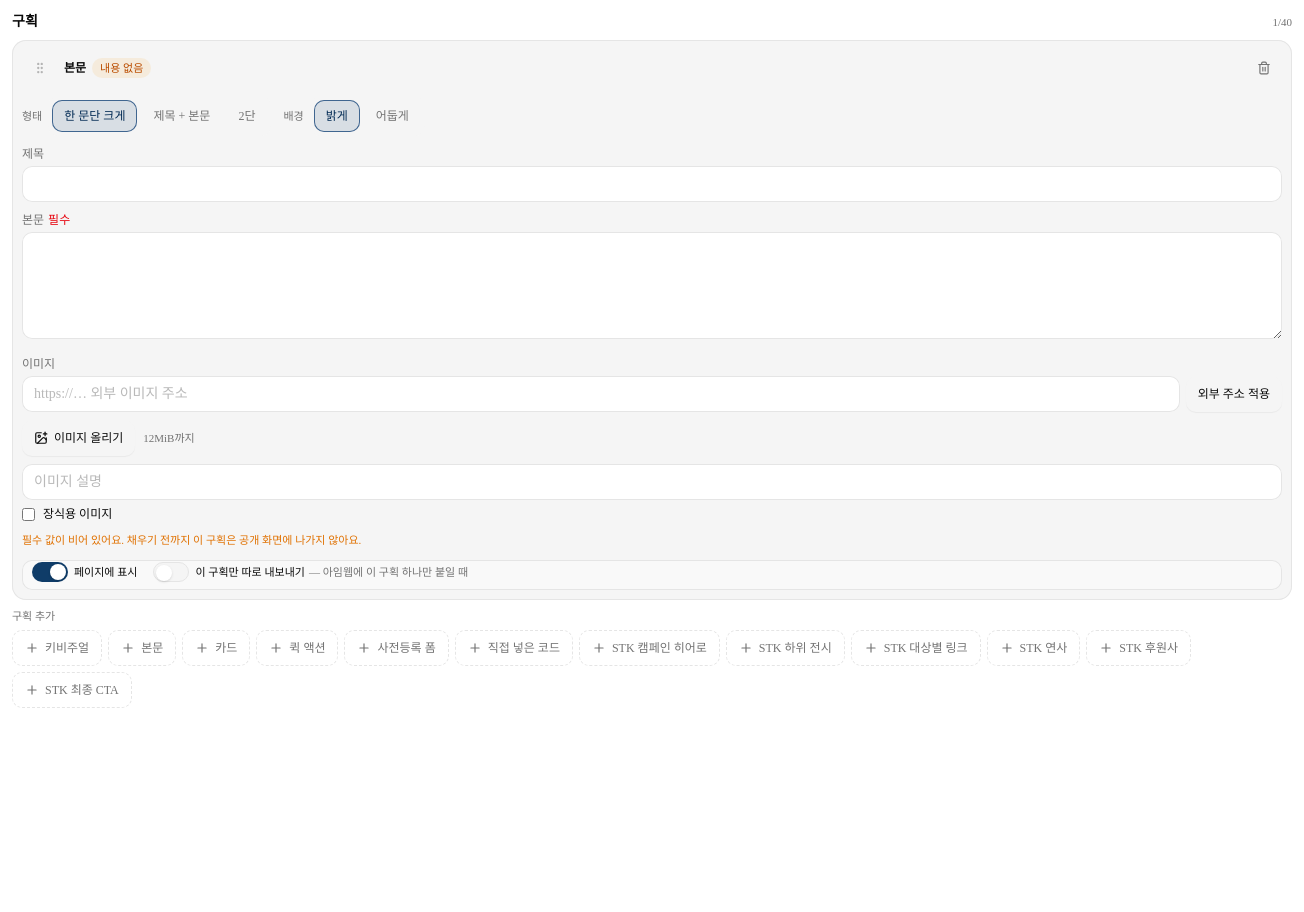
Test case: 구획 스위치 › 페이지에 표시를 끄면 숨김이라고 말한다
Click the switch named "본문 페이지에 표시" at (50, 572), box x1=32 y1=562 x2=68 y2=582
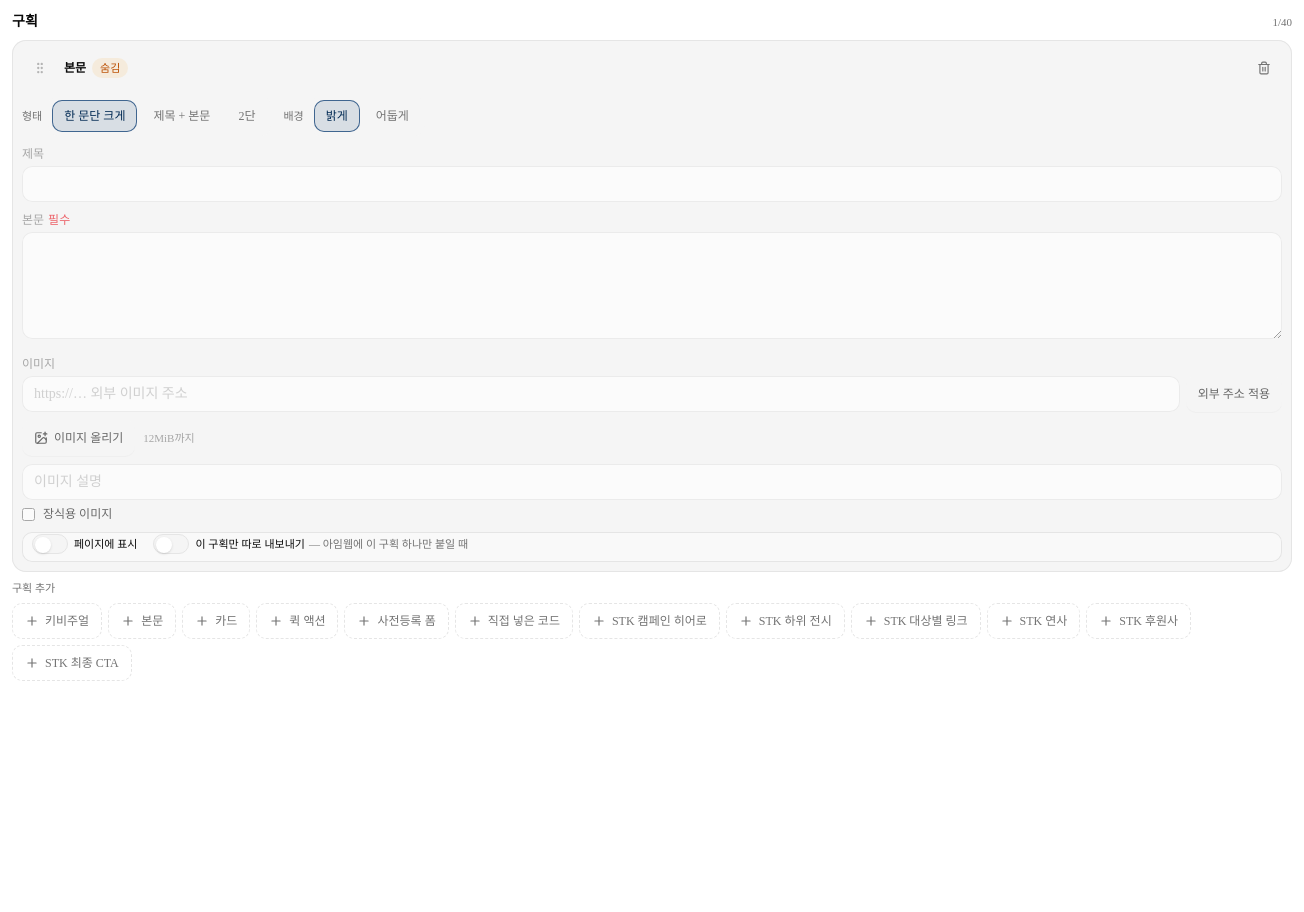
Result: the text "숨김" is shown at x1=92 y1=58 x2=128 y2=78
